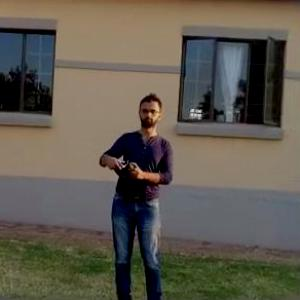follow: (88, 91, 178, 299)
